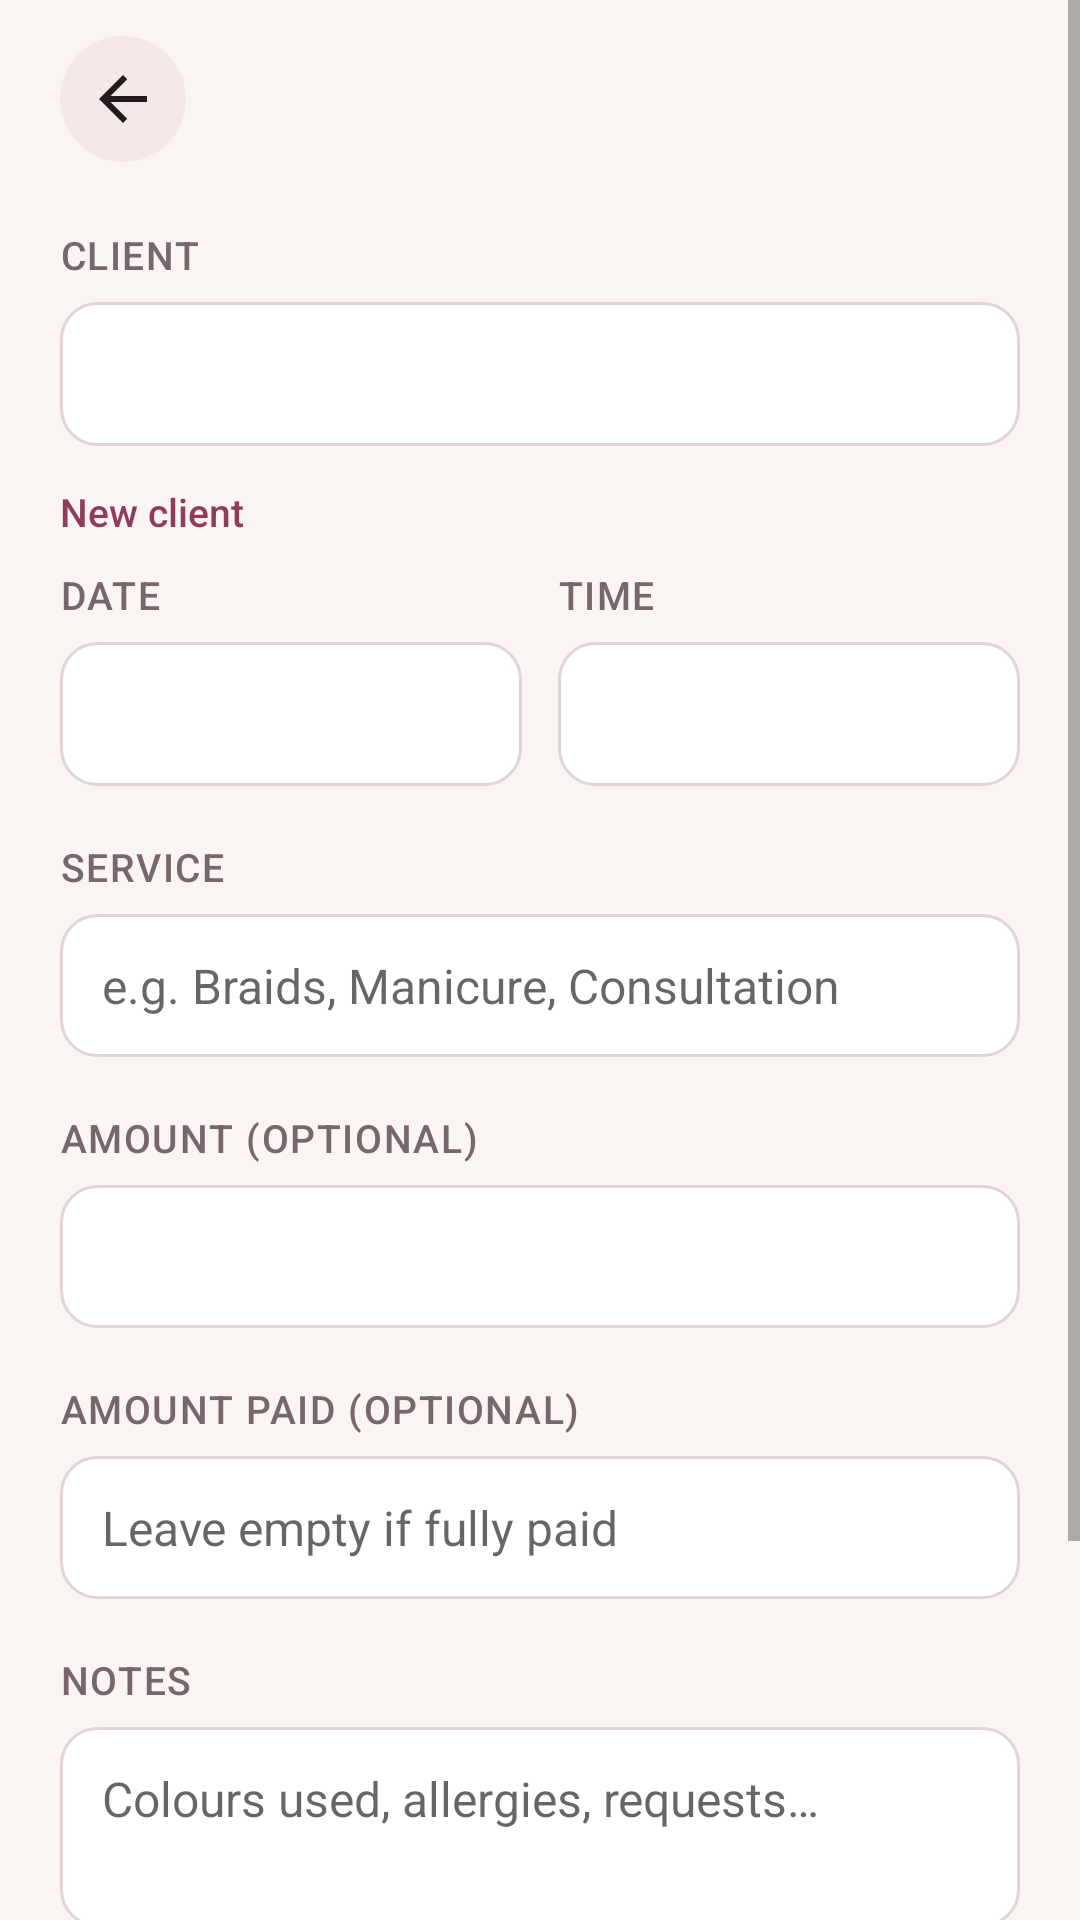

Icon bounding boxes for this 1080 x 1920 phone screenshot, format detection(x1, y1, x2, y2):
back: detection(60, 36, 186, 162)
